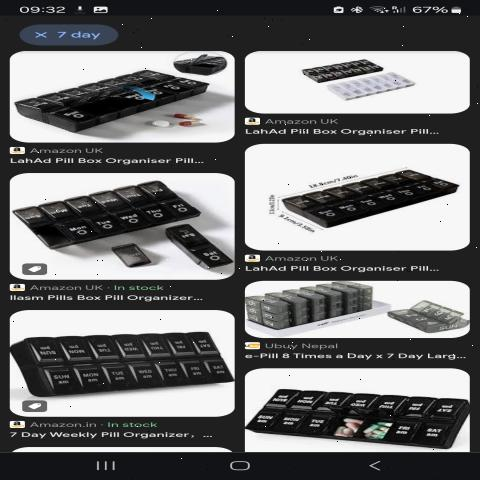PillBox: (253, 157, 470, 242), (9, 320, 235, 399), (18, 56, 218, 139), (251, 378, 480, 448), (13, 173, 214, 246), (289, 46, 402, 83)
